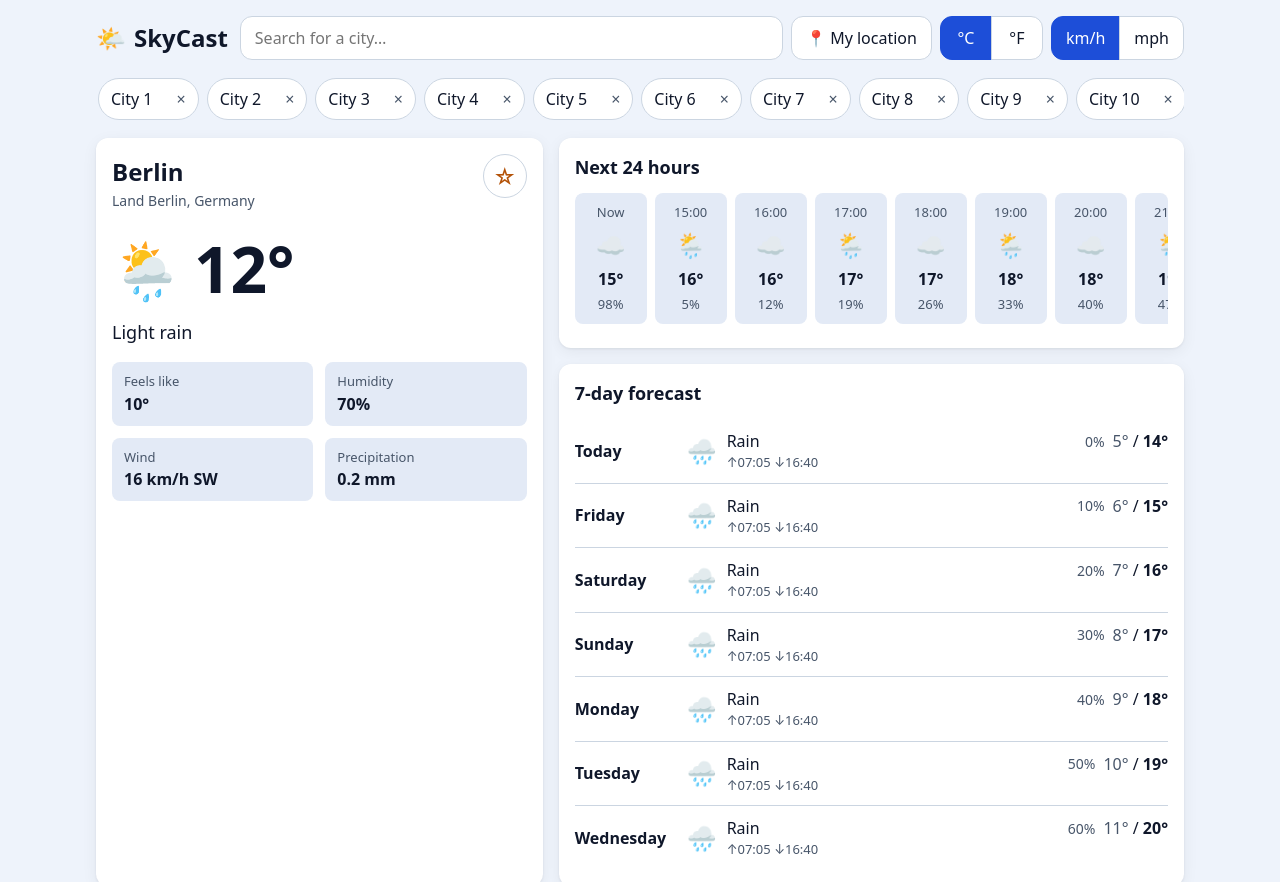
it: App › FR-6 removes a favourite from the chip row and caps the list at 10
Click the button named "Add Berlin to favourites" at {"x": 505, "y": 176}, box [483,154,527,198]
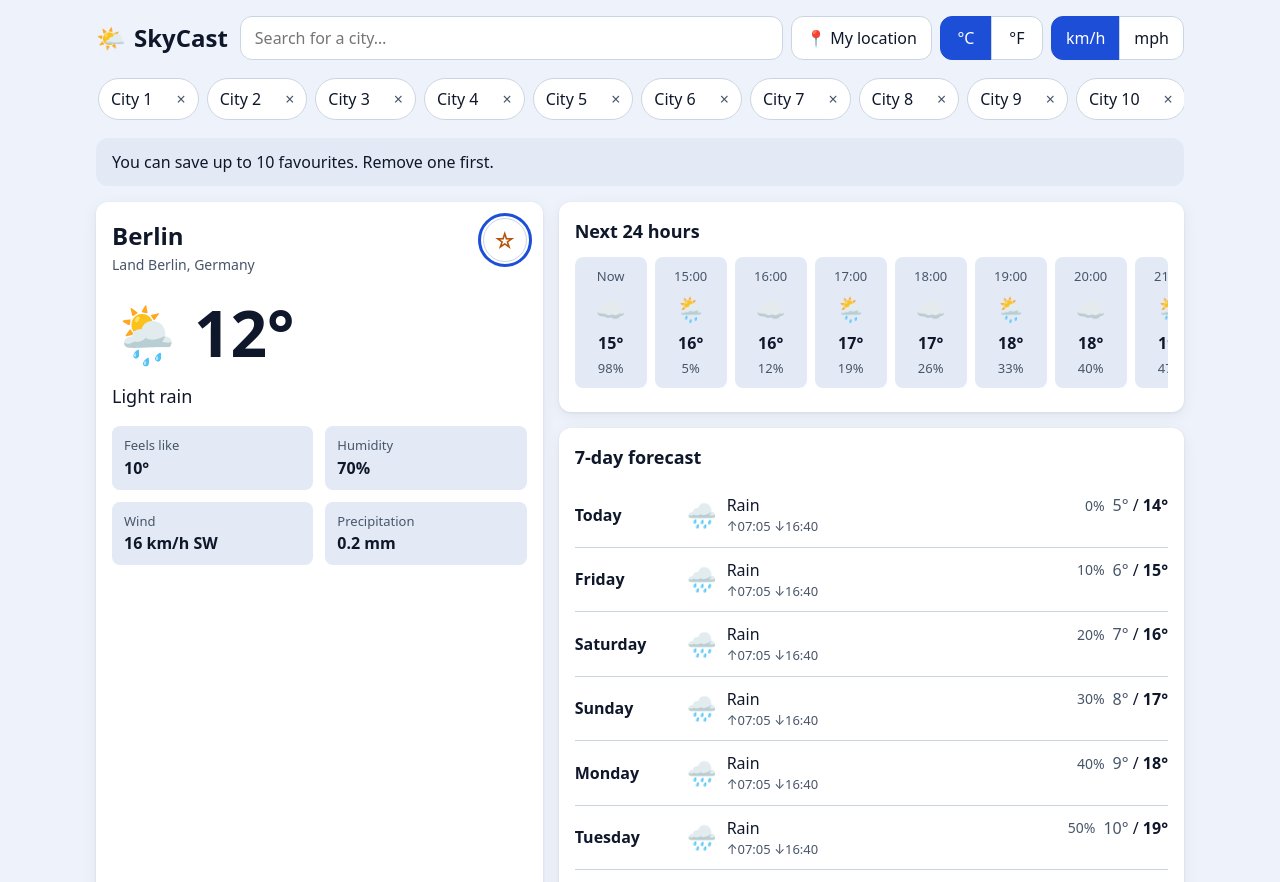
Expected: the text "You can save up to 10 favourites. Remove one first." is shown, [96,138,1184,186]
Click the button named "Remove City 1 from favourites" at {"x": 181, "y": 99}, box [164,79,198,119]
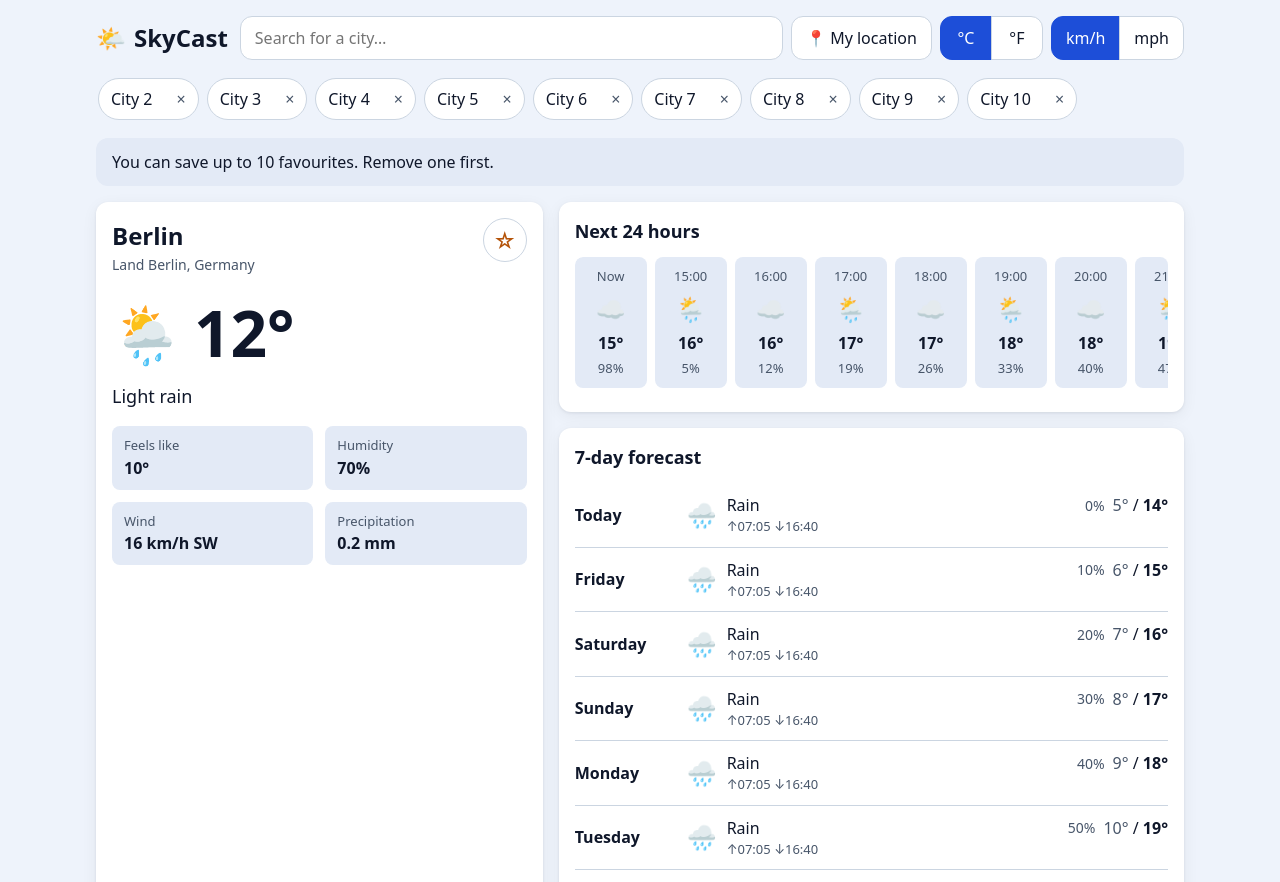
Click the button named "Add Berlin to favourites" at {"x": 505, "y": 240}, box [483,218,527,262]
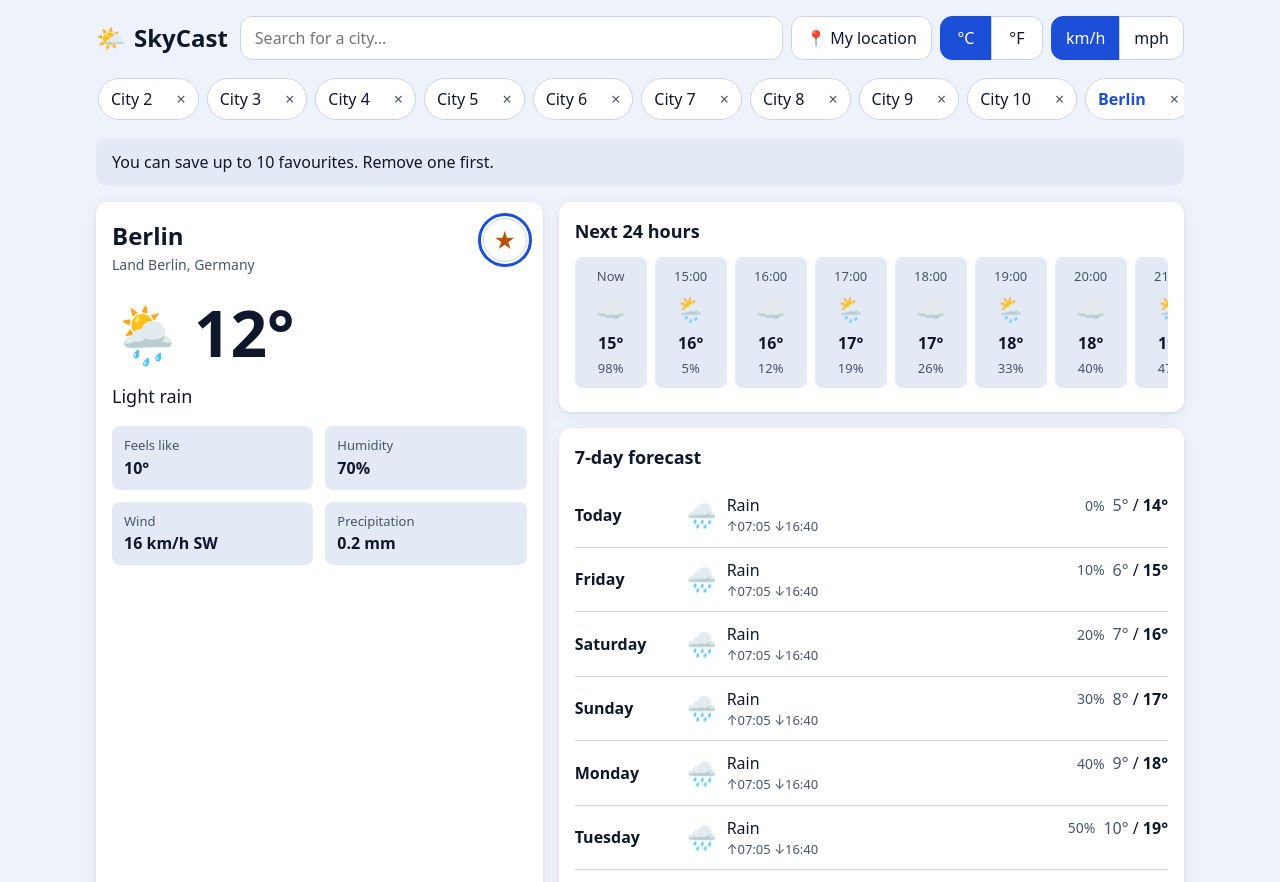
Expected: the number of buttons named "Remove Berlin from favourites" is 2, [1158,79,1184,119]; [483,218,527,262]
